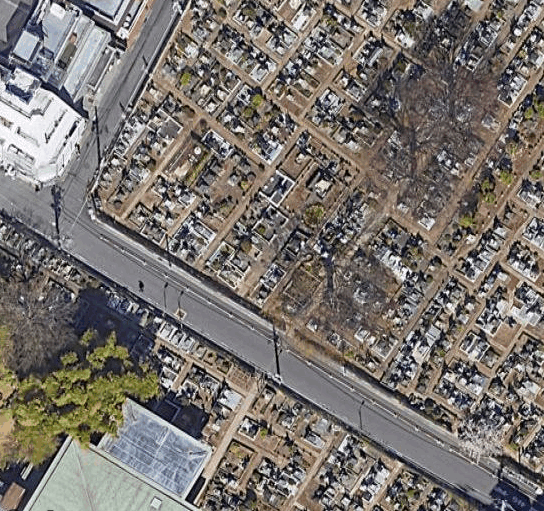rooftop: (8, 0, 84, 86), (0, 64, 60, 121)
